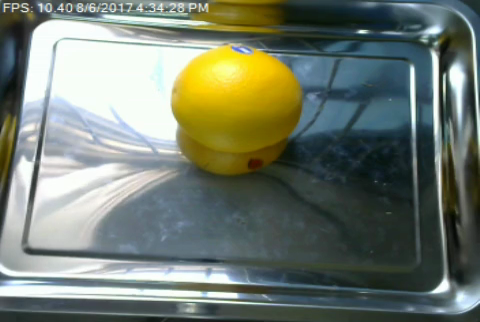Orange: (171, 44, 304, 152)
